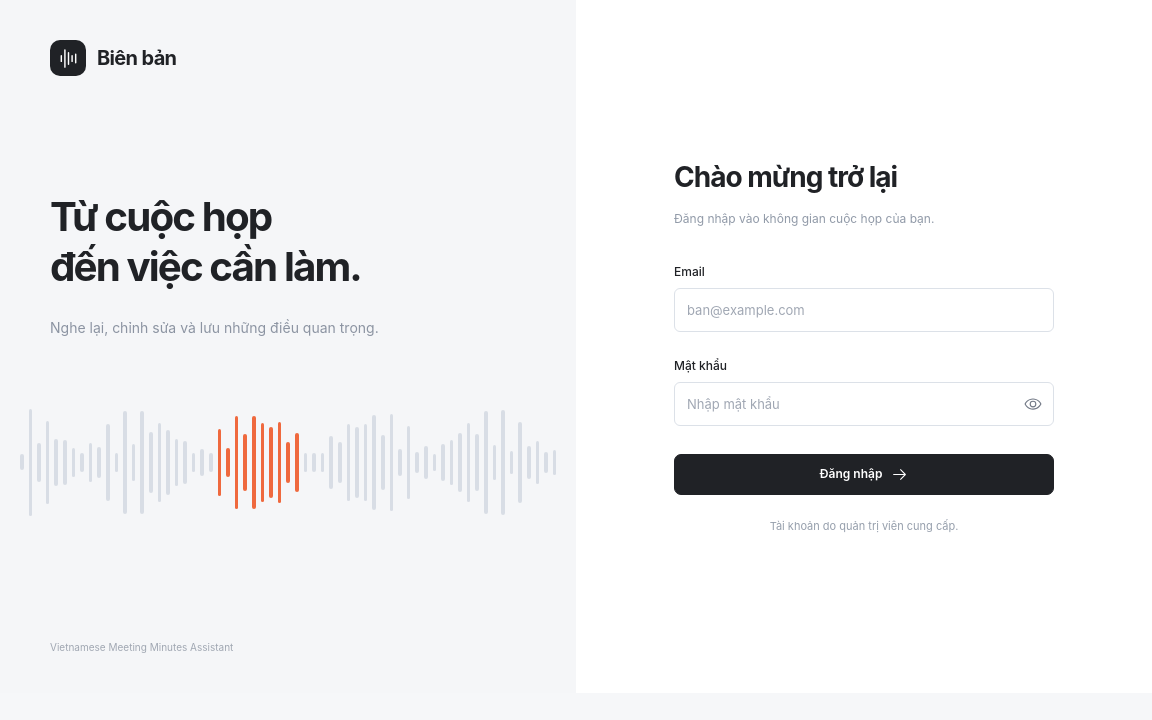
FE-03 API login › keeps email and clears password after 401
Type "user@example.com" into the field labelled "Email" at coordinates (864, 310), box [674,288,1054,332]
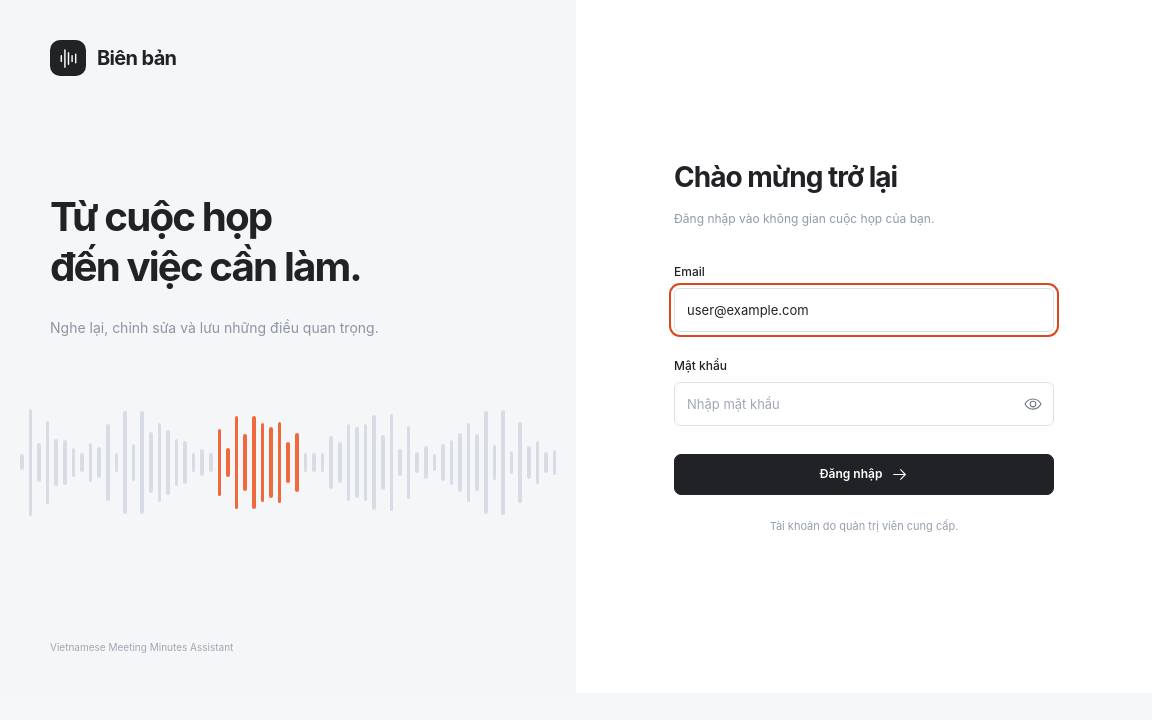
Type "wrong-password" into the password field labelled "Mật khẩu" at coordinates (864, 404), box [674,382,1054,426]
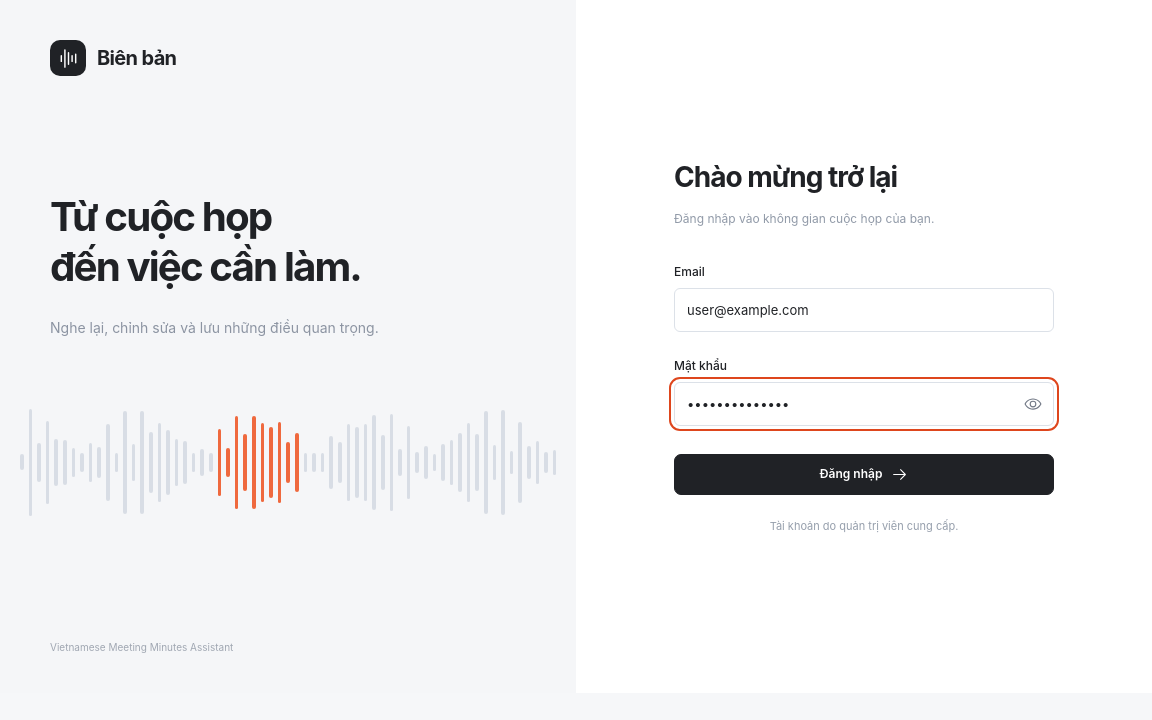
Click the button "Đăng nhập" at coordinates (864, 474), box [674,454,1054,495]
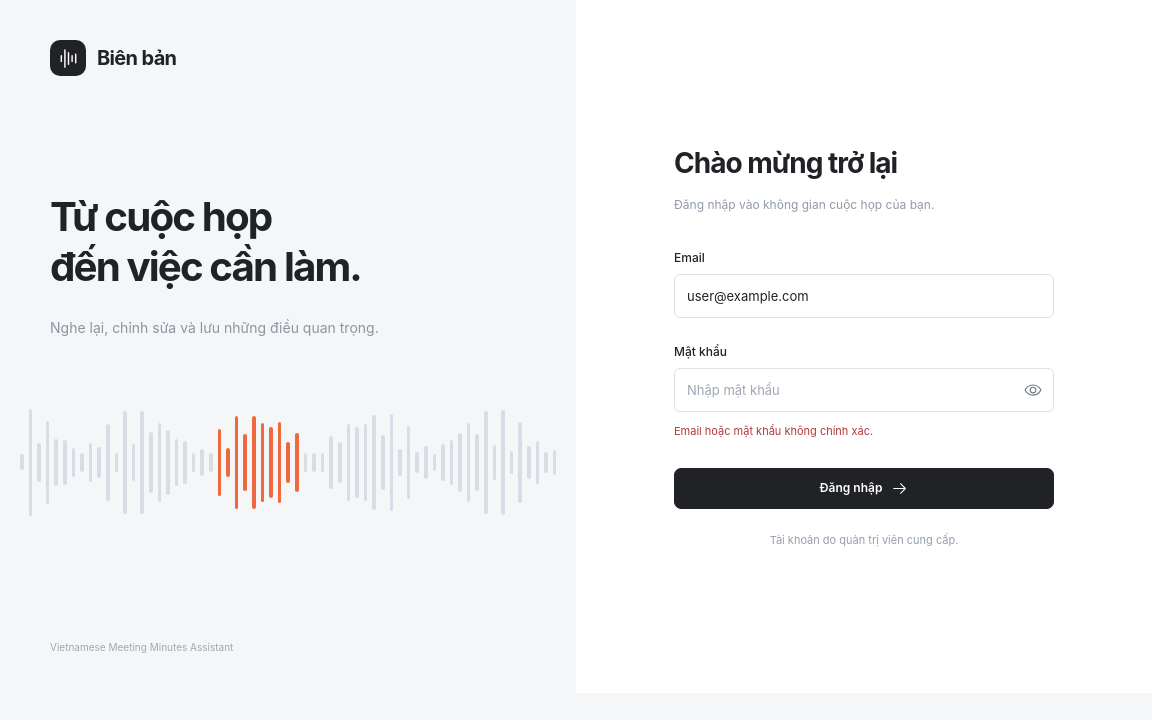
Expected: the message reads "Email hoặc mật khẩu không chính xác.", [674,424,873,438]
Expected: the password field labelled "Mật khẩu" is empty, [674,368,1054,412]
